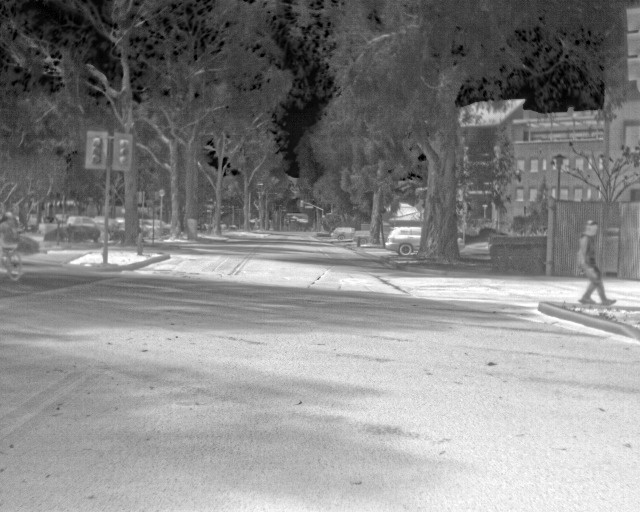vehicle: (385, 226, 422, 252)
